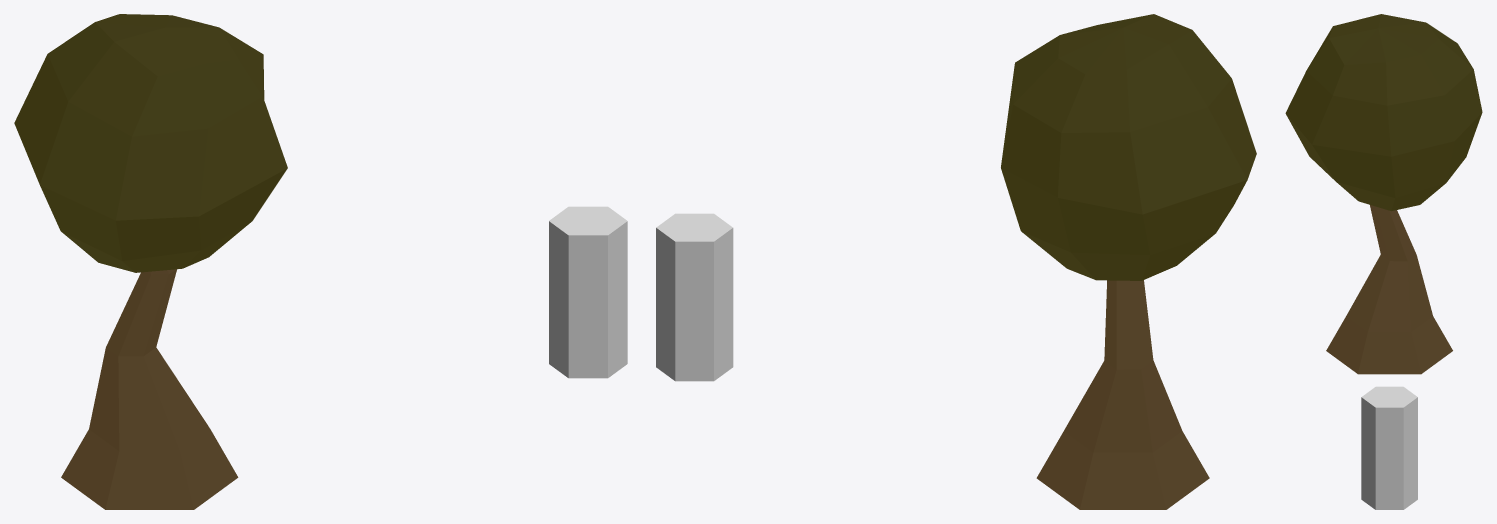
Rendered from brown_tree.glb.
3 renders of one model, left to right at view 1: azimuth 30°, elevation 25°; view 2: azimuth 150°, elevation 25°; view 3: azimuth 270°, elevation 25°, orthographic. The views are drawn at different scales.
Visible parts, largest first — view 1: leaves, trunk, Cylinder; view 2: leaves, trunk, Cylinder; view 3: leaves, trunk, Cylinder.
Part boxes in pixels (<box>): leaves: <box>14,14,287,272</box>; trunk: <box>61,269,238,509</box>; Cylinder: <box>549,206,627,378</box>; leaves: <box>1001,14,1256,280</box>; trunk: <box>1036,280,1209,509</box>; Cylinder: <box>656,213,733,381</box>; leaves: <box>1285,14,1482,211</box>; trunk: <box>1326,205,1452,374</box>; Cylinder: <box>1361,386,1417,509</box>.
Size of the model in its own units: 8.59 by 6.35 by 3.49.
